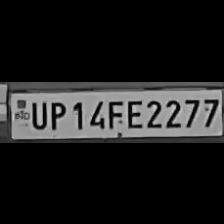1: (68, 98, 84, 130)
2: (144, 96, 162, 128), (162, 96, 180, 128)
4: (85, 97, 105, 129)
7: (198, 95, 218, 127), (181, 95, 199, 127)
E: (124, 96, 142, 128)
F: (104, 97, 122, 129)
P: (46, 98, 66, 130)
U: (28, 97, 46, 128)
